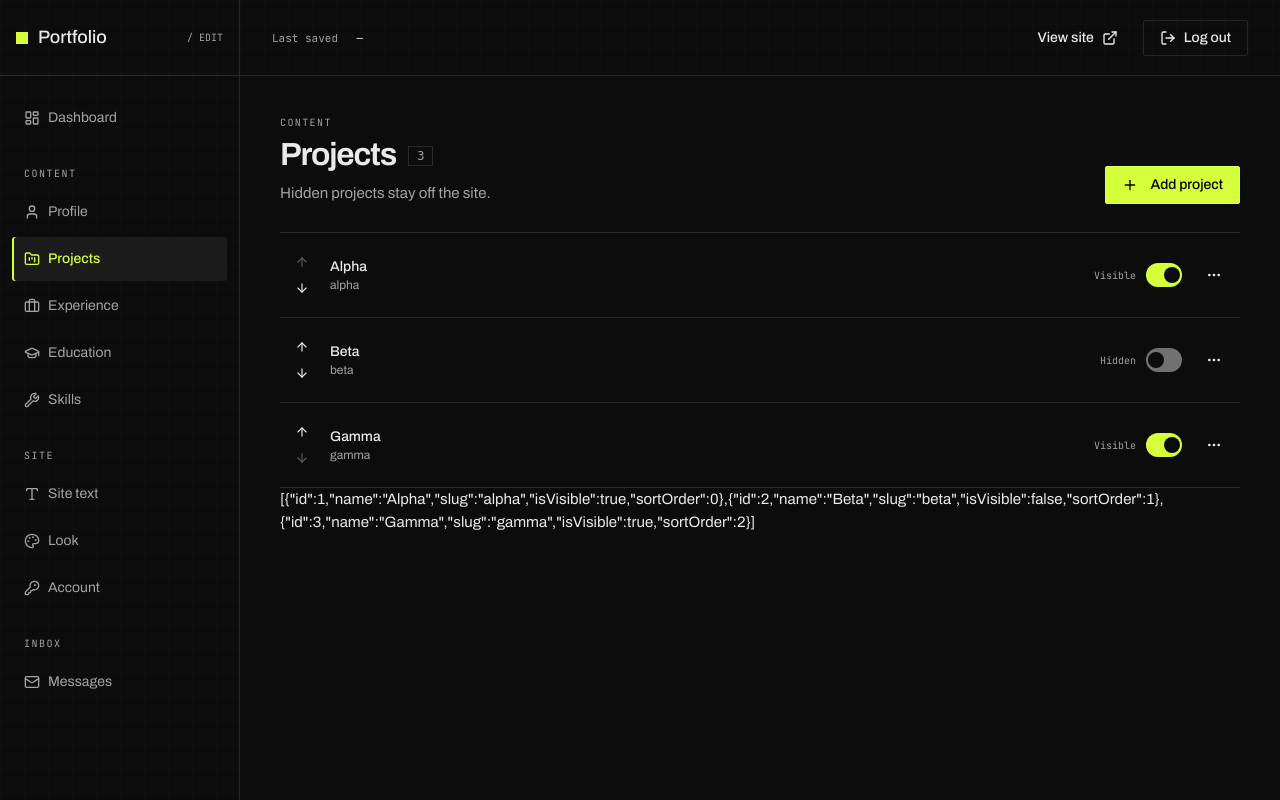
Test: ListEditor › 409 shows the conflict message under the conflictField
The width and height of the screenshot is (1280, 800).
Click the text "Beta". click: (345, 352)
box: [330,342,360,362]
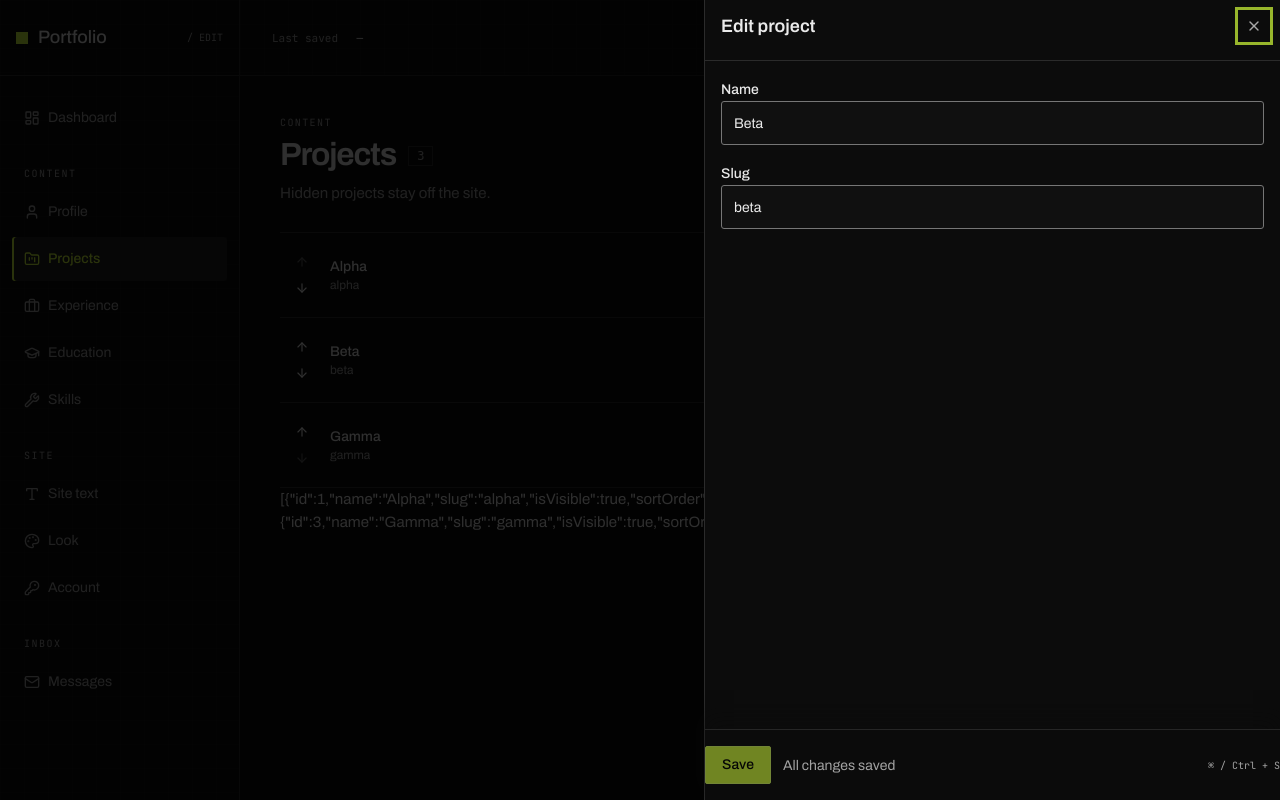
Type "x" into the field labelled "Slug". click: (992, 207)
box: [721,185,1264,229]
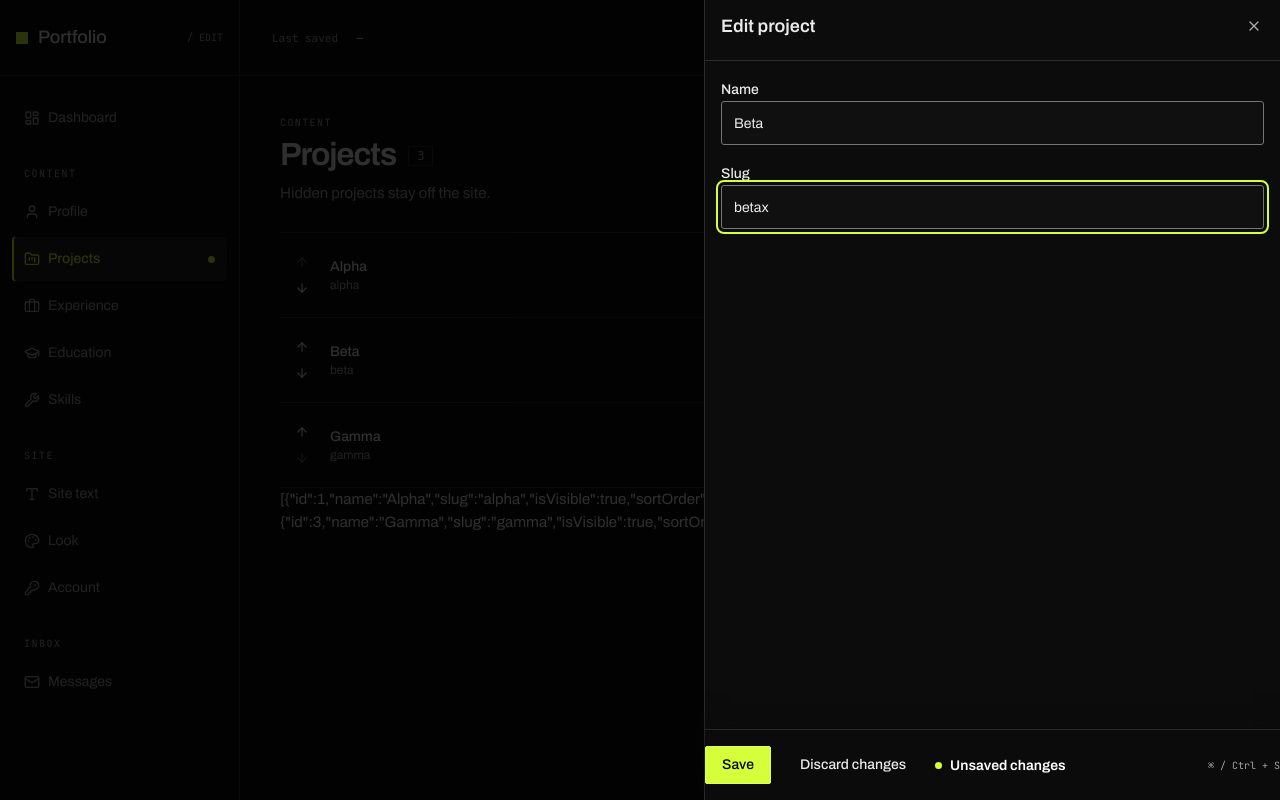
Click the button "Save". click: (738, 765)
box: [705,746,771,784]
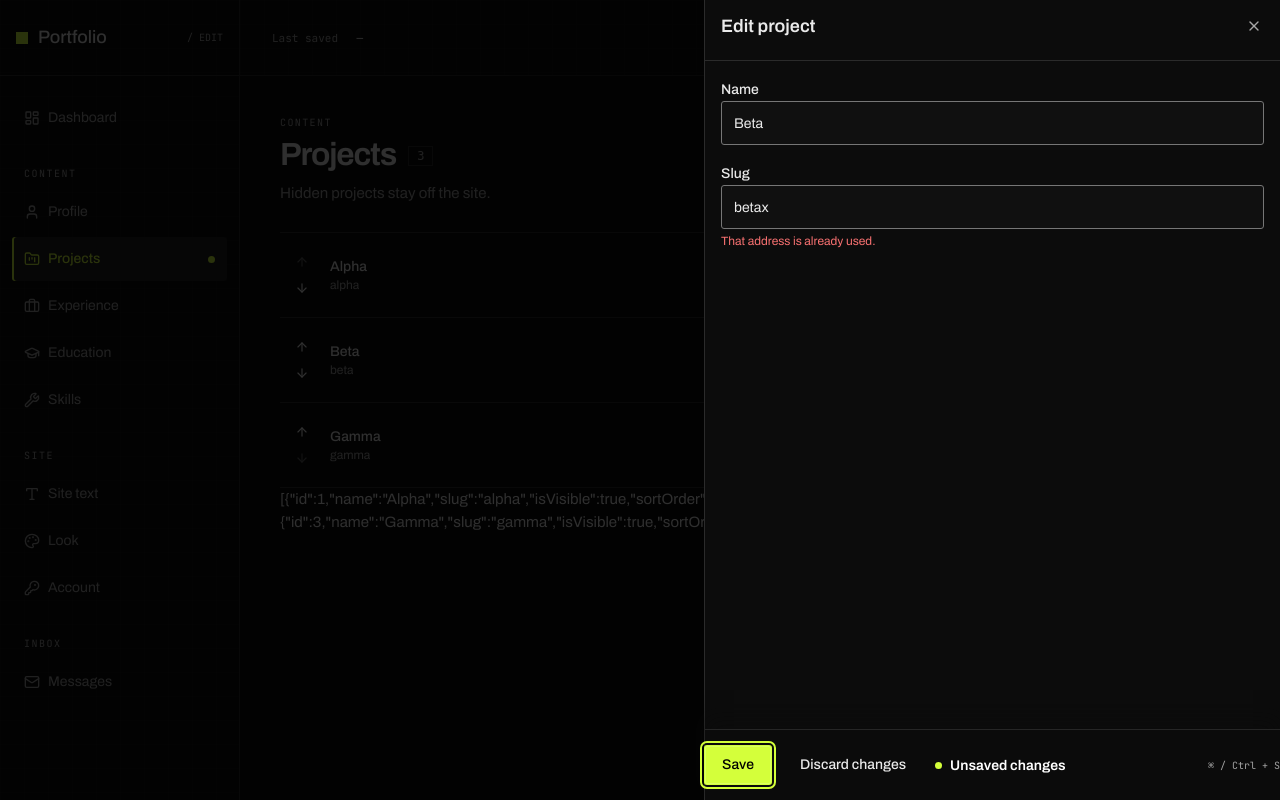
Check: the text "That address is already used." is shown, box [721,234,876,248]
